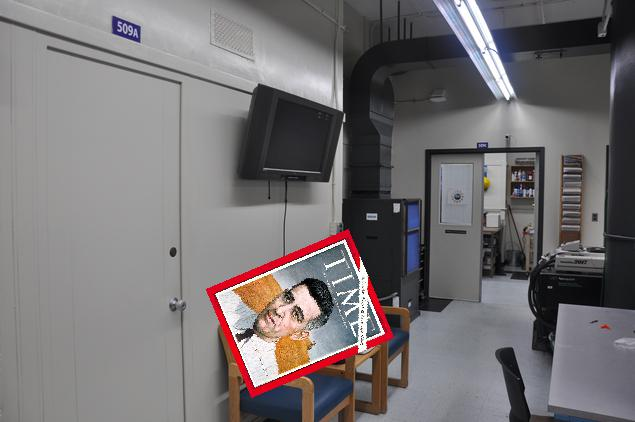times: (205, 228, 396, 398)
